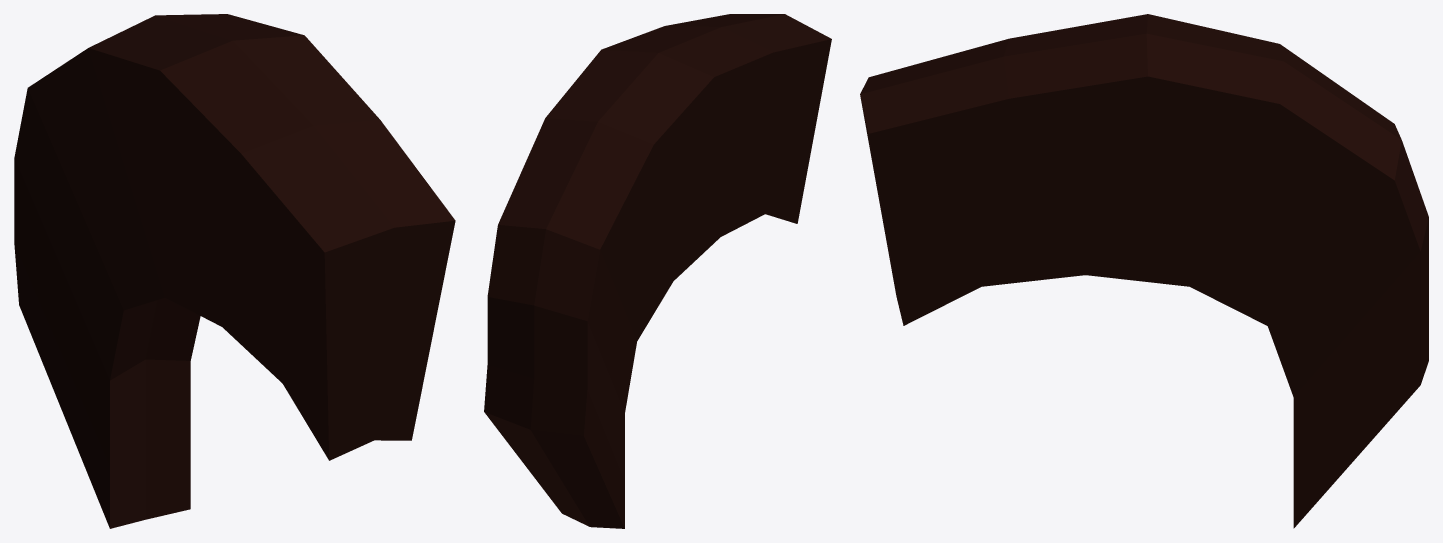
Rendered from Mohawk.FBX.
3 renders of one model, left to right at view 1: azimuth 30°, elevation 25°; view 2: azimuth 150°, elevation 25°; view 3: azimuth 270°, elevation 25°, orthographic. The views are drawn at different scales.
Visible parts, largest first — view 1: Object001; view 2: Object001; view 3: Object001.
Boxes of the visible parts, box(x1,y1,x2,y2) form: Object001: box(14, 14, 455, 528); Object001: box(484, 14, 831, 528); Object001: box(860, 14, 1428, 528).
Size of the model in its own units: 12.81 by 46 by 49.29.
